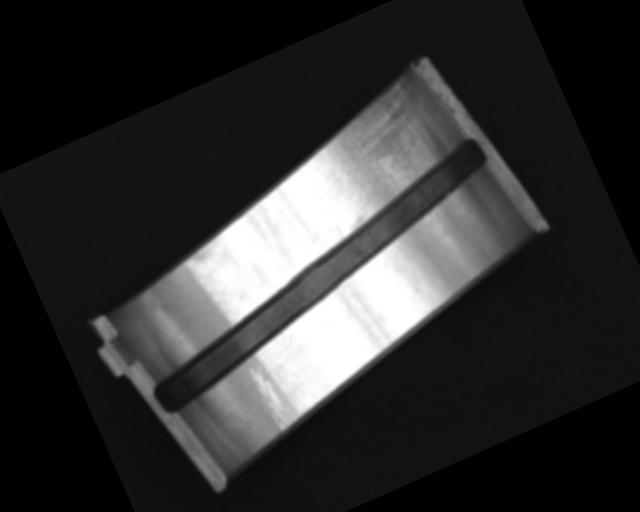gap: (110, 135, 528, 417)
nick: (246, 360, 295, 437)
scratch: (303, 73, 460, 231)
